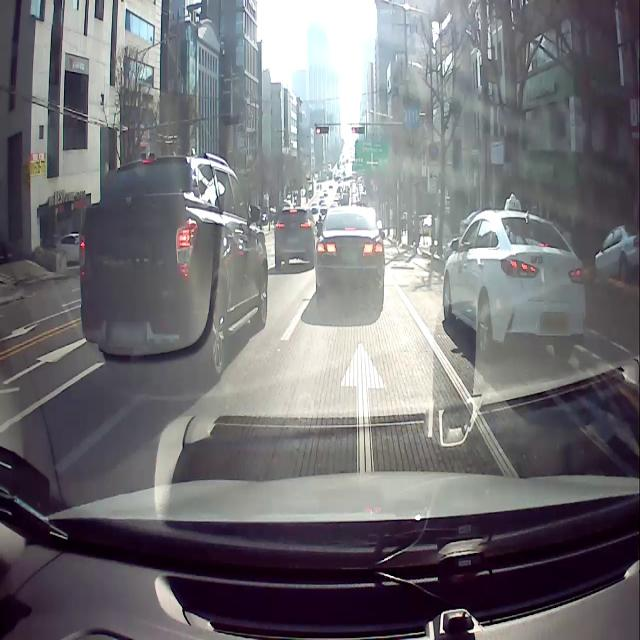Red Light: (351, 127, 356, 134), (316, 126, 320, 134)
